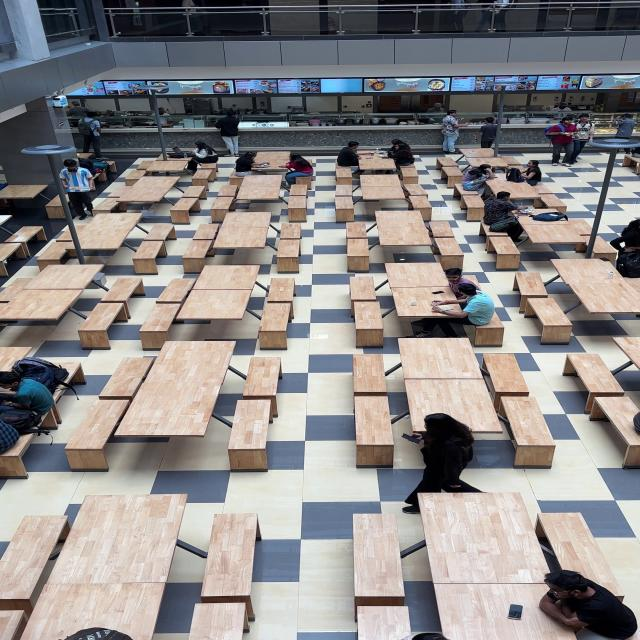Occupied: (431, 583, 575, 640), (538, 568, 638, 640), (402, 409, 482, 496), (0, 375, 54, 422), (479, 186, 529, 232), (58, 159, 96, 217), (398, 294, 471, 324), (554, 263, 624, 294), (12, 358, 72, 392), (462, 288, 500, 328), (282, 150, 316, 184), (486, 235, 521, 268), (182, 141, 220, 171), (608, 220, 640, 254), (78, 146, 117, 173), (347, 146, 404, 162), (461, 165, 493, 192), (338, 141, 363, 175), (234, 152, 268, 177), (387, 142, 414, 173), (516, 209, 568, 225), (445, 270, 476, 296), (519, 161, 542, 183), (506, 167, 526, 183), (535, 516, 547, 540), (251, 164, 289, 170), (370, 151, 386, 155), (258, 163, 270, 168)
Unoccupied: (42, 491, 211, 582), (417, 491, 549, 583), (14, 583, 168, 640), (533, 512, 626, 603), (0, 516, 90, 600), (553, 521, 640, 589), (125, 391, 232, 445), (549, 260, 640, 323), (352, 513, 402, 621), (201, 513, 260, 599), (407, 380, 502, 432), (63, 400, 132, 466), (143, 342, 235, 389), (498, 398, 557, 464), (398, 338, 482, 380), (588, 399, 640, 466), (71, 216, 145, 262), (0, 288, 90, 324), (102, 176, 182, 215), (373, 215, 432, 267), (228, 401, 271, 469), (482, 356, 531, 415), (172, 288, 254, 322), (354, 398, 394, 464), (245, 355, 285, 414), (186, 602, 248, 640), (478, 177, 550, 209), (99, 359, 157, 398), (20, 266, 107, 292), (77, 303, 128, 347), (515, 217, 591, 245), (211, 214, 273, 248), (527, 301, 575, 341), (572, 288, 640, 316), (356, 606, 412, 640), (572, 353, 617, 395), (356, 174, 407, 210), (190, 266, 260, 292), (98, 278, 145, 316), (138, 305, 181, 346), (384, 262, 448, 289), (258, 304, 292, 348), (514, 272, 548, 316), (353, 355, 388, 395), (0, 185, 50, 212), (1, 229, 46, 257), (234, 176, 286, 200), (264, 278, 294, 319), (140, 156, 199, 176), (170, 185, 207, 216), (472, 310, 505, 344), (528, 230, 584, 250), (155, 278, 196, 305), (132, 240, 165, 273), (181, 240, 214, 272), (432, 237, 465, 266), (141, 223, 176, 250), (612, 338, 640, 371), (36, 241, 72, 266), (352, 301, 382, 331), (38, 392, 61, 430), (493, 187, 544, 204), (0, 346, 33, 372), (189, 224, 220, 251), (1, 609, 28, 640), (276, 240, 302, 272), (0, 278, 34, 302), (459, 148, 503, 166), (346, 236, 370, 269), (592, 237, 619, 265), (350, 277, 378, 304), (0, 242, 26, 268), (536, 192, 568, 213), (483, 226, 512, 249), (459, 192, 485, 217), (407, 189, 434, 213), (464, 198, 491, 220), (439, 165, 465, 187), (210, 197, 235, 219), (253, 148, 292, 162), (334, 196, 355, 222), (44, 197, 68, 219), (91, 198, 122, 215), (428, 221, 455, 239), (360, 158, 396, 170), (345, 222, 368, 240), (216, 185, 240, 202), (279, 224, 302, 241), (540, 199, 570, 212), (192, 170, 213, 188), (334, 184, 354, 202), (494, 166, 533, 175), (458, 275, 481, 290), (335, 167, 353, 185), (397, 165, 417, 181), (286, 182, 308, 196), (286, 197, 306, 212), (364, 166, 399, 174), (136, 160, 156, 172), (51, 388, 68, 401), (68, 186, 94, 192)
